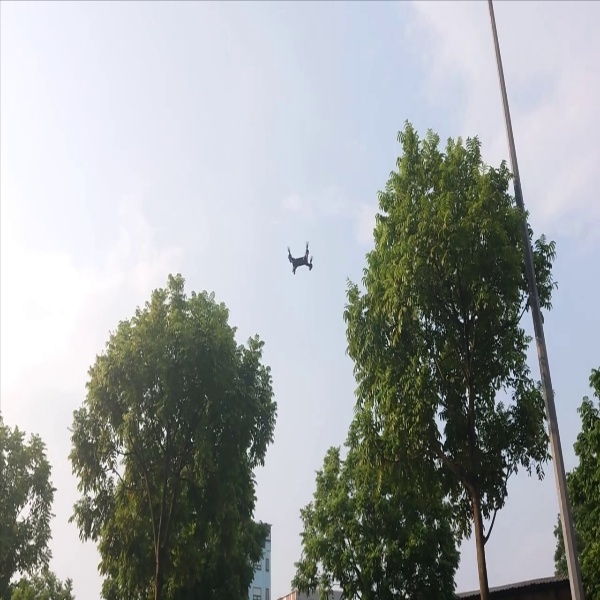drone: (276, 236, 321, 281)
